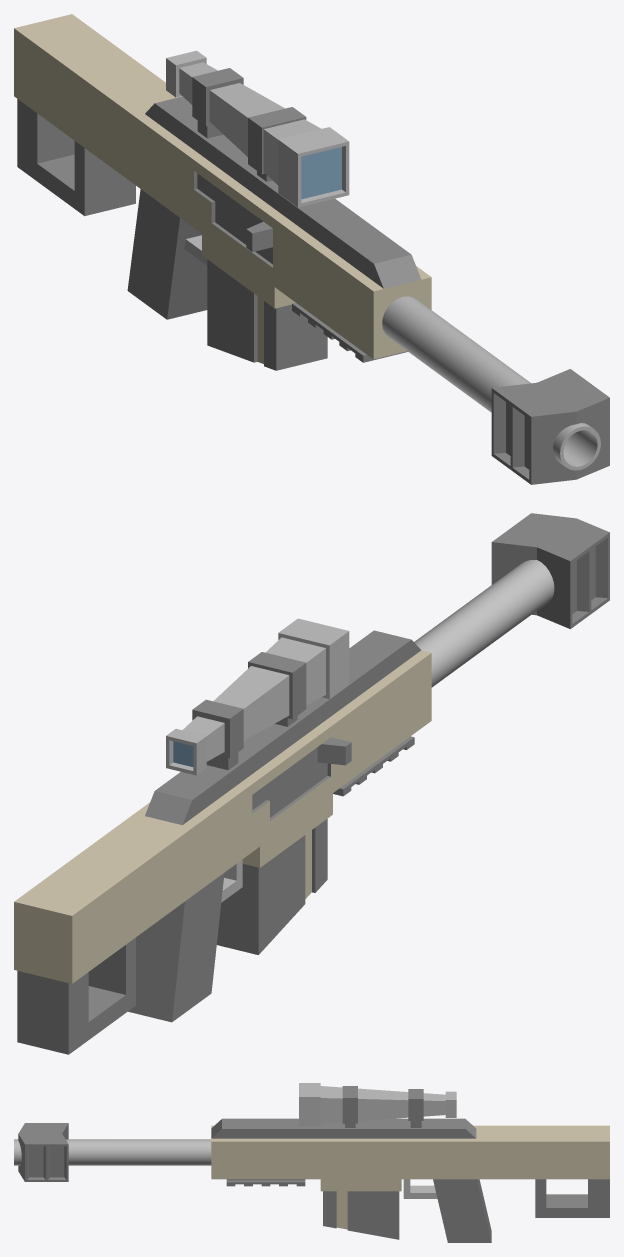
The model's file is snipercamo.glb.
3 views of the same model, one above another, from view 1: azimuth 30°, elevation 25°; view 2: azimuth 150°, elevation 25°; view 3: azimuth 270°, elevation 25° (orthographic). The views are drawn at different scales.
Visible parts, largest first — view 1: sniperCamo; view 2: sniperCamo; view 3: sniperCamo.
Part boxes in pixels (x1,y1,x2,y2): sniperCamo: [14, 14, 609, 484]; sniperCamo: [14, 513, 609, 1054]; sniperCamo: [14, 1083, 609, 1242].
Bounding box in the file's own units: 0.39 × 1.11 × 4.08.
